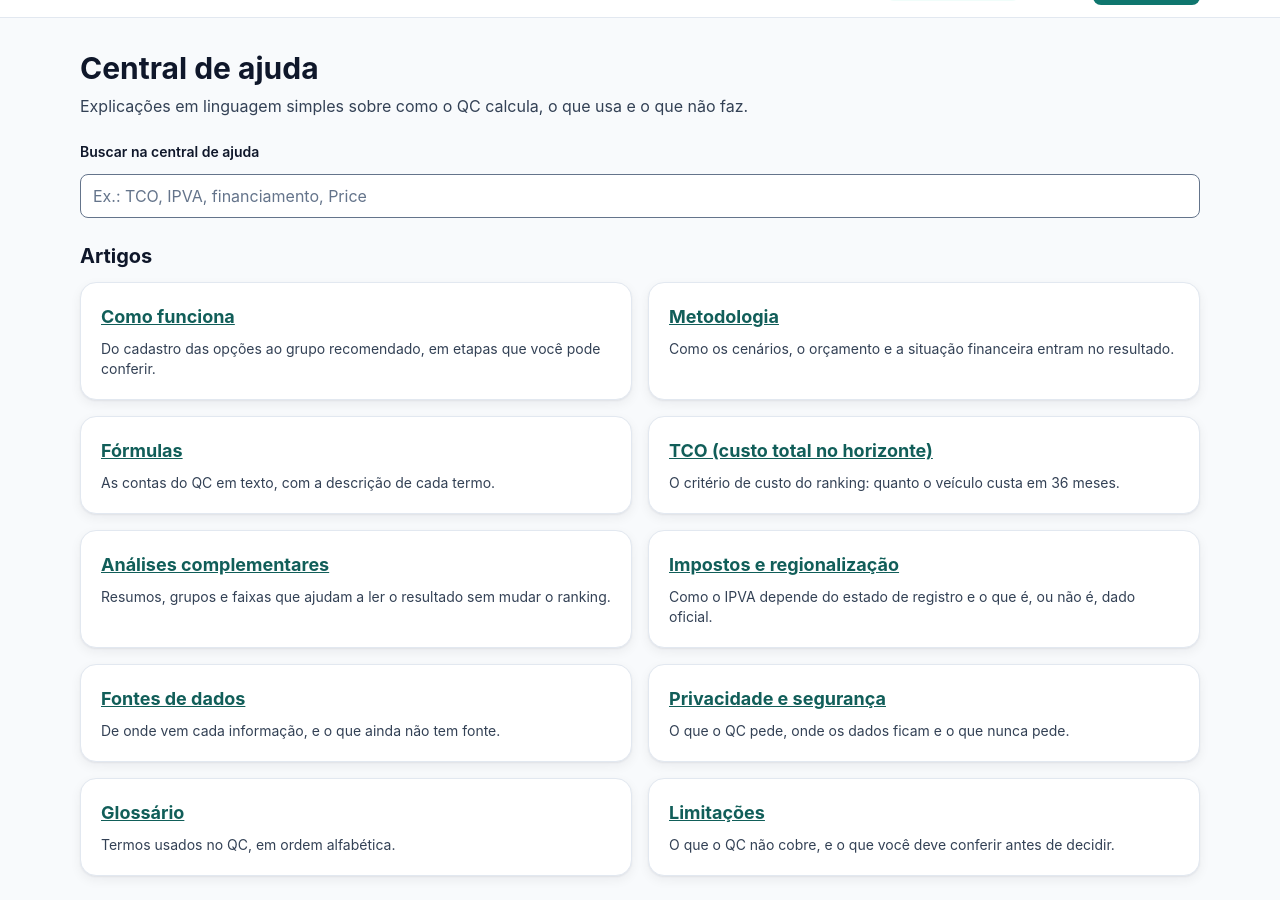
Scenario: central de ajuda › busca sem resultado explica e sugere outro termo
(page scrolled)
Type "zzzzqq" into the search field labelled "Buscar na central de ajuda" at (640, 196), box [80,174,1200,218]
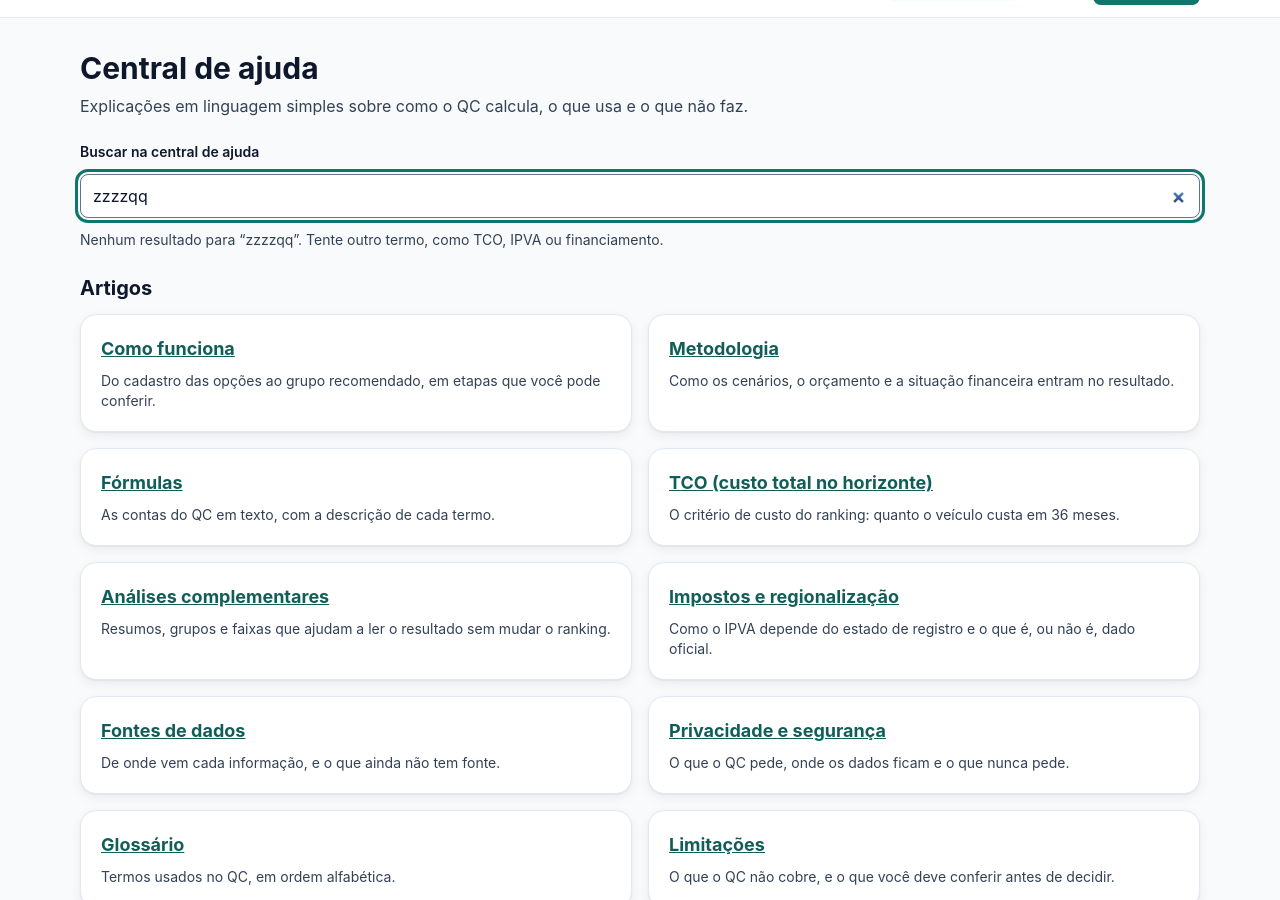
Expected: the text "Nenhum resultado para" is shown, [80,231,245,248]
